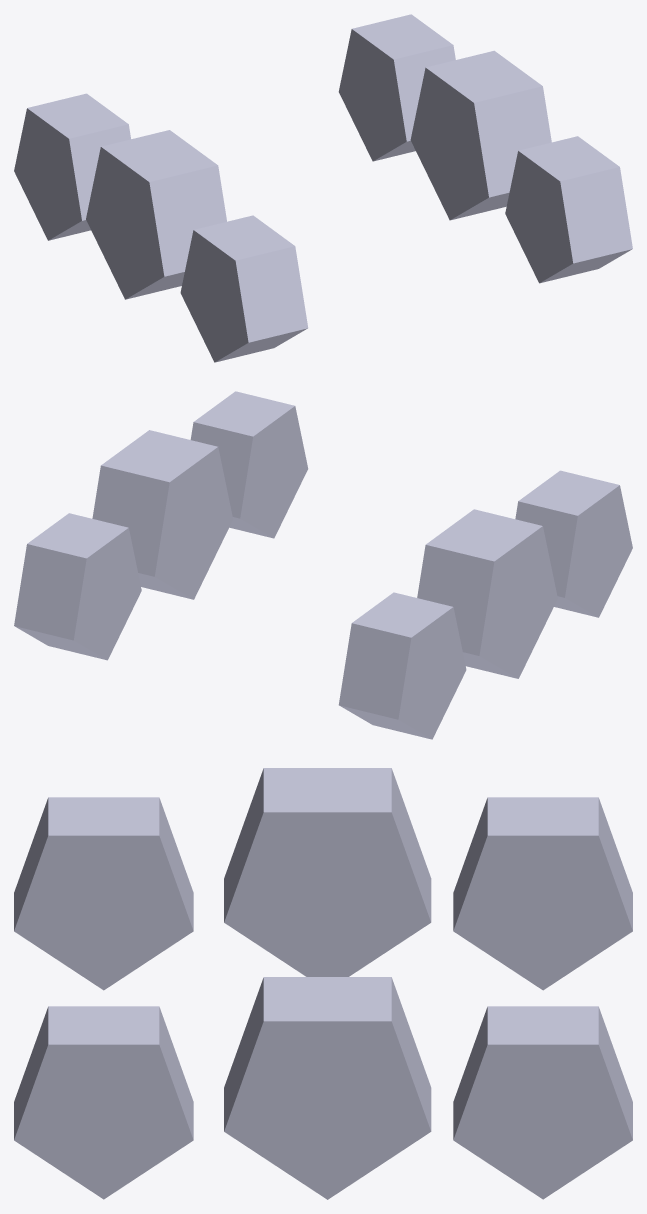
File: Tank_Serverversion_Wheeled.fbx
The picture shows the model from 3 angles, top to bottom: view 1: azimuth 30°, elevation 25°; view 2: azimuth 150°, elevation 25°; view 3: azimuth 270°, elevation 25°; orthographic projection. The views are drawn at different scales.
Parts seen in each view (by area): view 1: wheel_m_l, wheel_m_r, wheel_f_r, wheel_f_l, wheel_b_l, wheel_b_r; view 2: wheel_m_l, wheel_m_r, wheel_b_r, wheel_b_l, wheel_f_l, wheel_f_r; view 3: wheel_m_l, wheel_m_r, wheel_f_l, wheel_b_l, wheel_f_r, wheel_b_r.
Boxes of the visible parts, x1=… form: wheel_m_l: x1=410, y1=50, x2=551, y2=220; wheel_m_r: x1=86, y1=130, x2=226, y2=299; wheel_f_r: x1=180, y1=215, x2=308, y2=362; wheel_f_l: x1=505, y1=136, x2=632, y2=283; wheel_b_l: x1=338, y1=14, x2=455, y2=161; wheel_b_r: x1=14, y1=93, x2=130, y2=240; wheel_m_l: x1=92, y1=430, x2=233, y2=599; wheel_m_r: x1=417, y1=509, x2=557, y2=678; wheel_b_r: x1=338, y1=592, x2=466, y2=739; wheel_b_l: x1=14, y1=513, x2=141, y2=660; wheel_f_l: x1=190, y1=391, x2=308, y2=538; wheel_f_r: x1=515, y1=470, x2=632, y2=617; wheel_m_l: x1=224, y1=977, x2=431, y2=1199; wheel_m_r: x1=224, y1=768, x2=431, y2=976; wheel_f_l: x1=14, y1=1006, x2=193, y2=1199; wheel_b_l: x1=453, y1=1006, x2=632, y2=1199; wheel_f_r: x1=14, y1=797, x2=193, y2=990; wheel_b_r: x1=453, y1=797, x2=632, y2=990.
Size of what is drawn, in the model's own units: 357 by 119 by 368.
